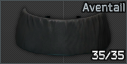LSHZ-2DTM Aventail: (0, 0, 127, 64)
